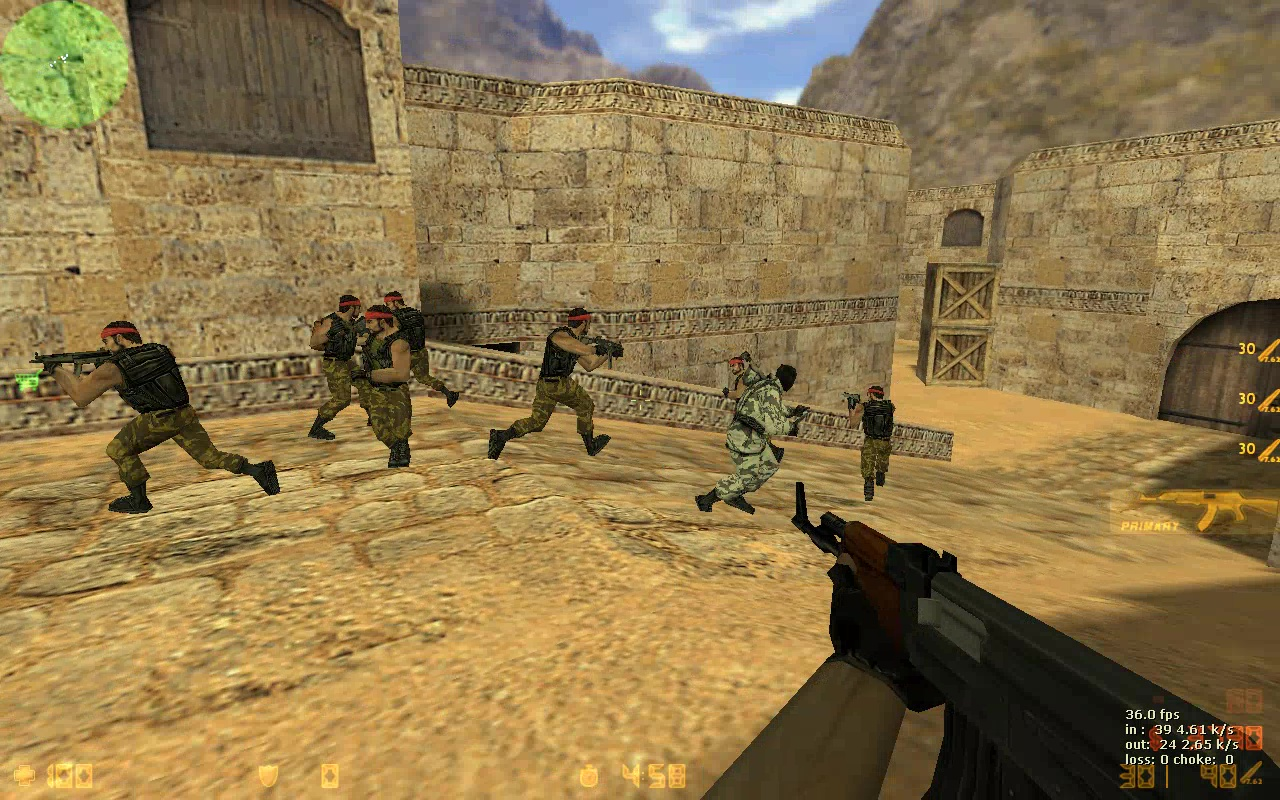terr1: (36, 318, 280, 513), (484, 310, 625, 458), (310, 291, 372, 441), (381, 291, 458, 410), (361, 306, 415, 467), (839, 385, 896, 503)
terr2: (693, 364, 812, 512)
